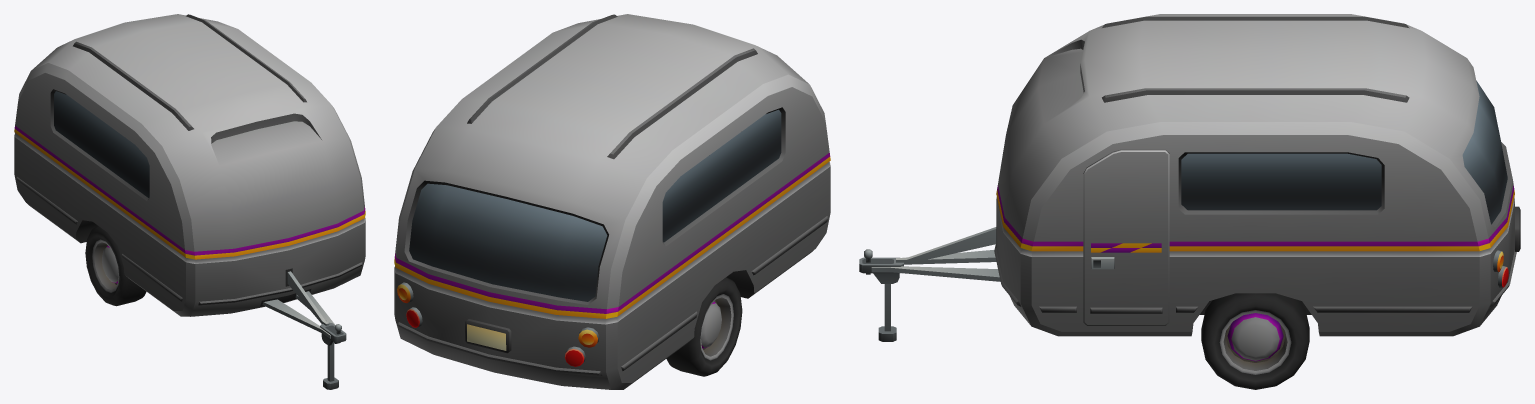
File: Camper_Trailer_1A.fbx
3 renders of one model, left to right at view 1: azimuth 30°, elevation 25°; view 2: azimuth 150°, elevation 25°; view 3: azimuth 270°, elevation 25°, orthographic. The views are drawn at different scales.
Visible parts, largest first — view 1: Camper_Trailer_1A, Camper_Trailer_1A_Wheel_R, Camper_Trailer_1A_Pin; view 2: Camper_Trailer_1A, Camper_Trailer_1A_Wheel_R, Camper_Trailer_1A_Lights; view 3: Camper_Trailer_1A, Camper_Trailer_1A_Wheel_L, Camper_Trailer_1A_Pin.
Boxes of the visible parts, x1,y1,x2,y2 form: Camper_Trailer_1A: [14, 14, 365, 345]; Camper_Trailer_1A_Wheel_R: [85, 226, 146, 306]; Camper_Trailer_1A_Pin: [323, 341, 338, 389]; Camper_Trailer_1A: [394, 14, 830, 389]; Camper_Trailer_1A_Wheel_R: [666, 277, 742, 376]; Camper_Trailer_1A_Lights: [406, 310, 582, 365]; Camper_Trailer_1A: [859, 14, 1520, 336]; Camper_Trailer_1A_Wheel_L: [1201, 293, 1309, 389]; Camper_Trailer_1A_Pin: [878, 284, 896, 341].
Size of the model in its own units: 217 by 246 by 512.
